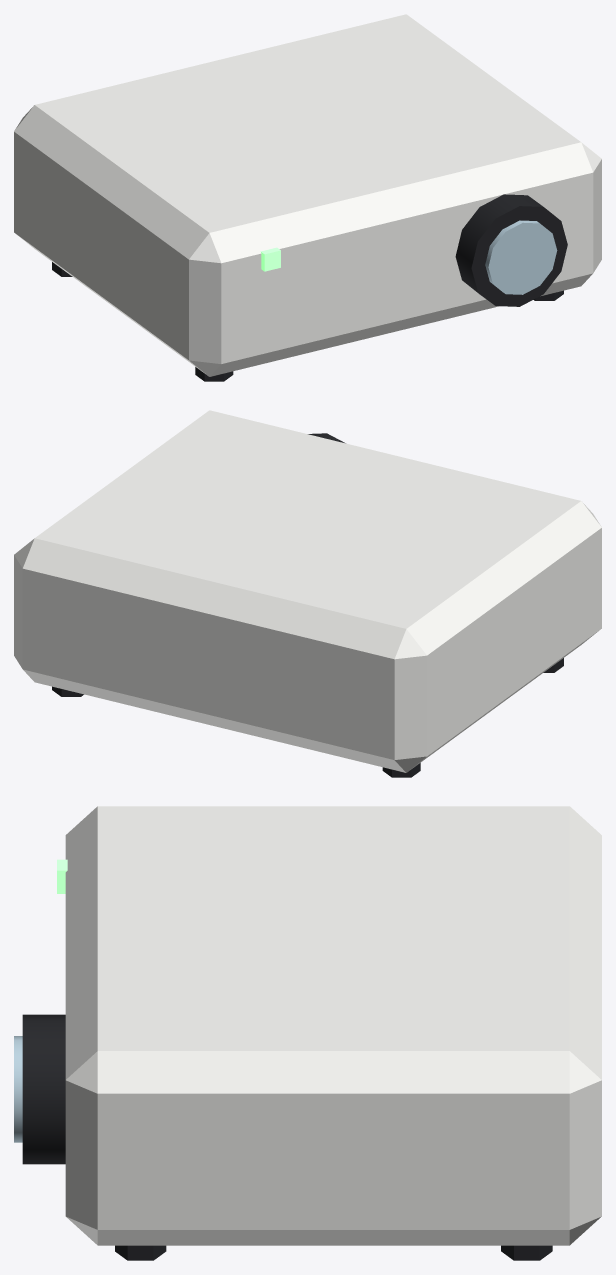
The model's file is projector.glb.
The picture shows the model from 3 angles, top to bottom: view 1: azimuth 30°, elevation 25°; view 2: azimuth 150°, elevation 25°; view 3: azimuth 270°, elevation 25°; orthographic projection. The views are drawn at different scales.
Parts seen in each view (by area): view 1: projector; view 2: projector; view 3: projector.
Boxes of the visible parts, x1=… form: projector: x1=14, y1=14, x2=601, y2=381; projector: x1=14, y1=410, x2=601, y2=777; projector: x1=14, y1=806, x2=601, y2=1260.
Size of the model in its own units: 0.3 by 0.11 by 0.274.
Materials: 2 (1 with a texture image).
